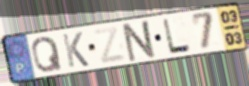7: (190, 10, 218, 52)
K: (60, 31, 91, 69)
L: (161, 17, 194, 55)
N: (121, 18, 159, 64)
Q: (30, 35, 64, 74)
Z: (91, 24, 128, 65)
